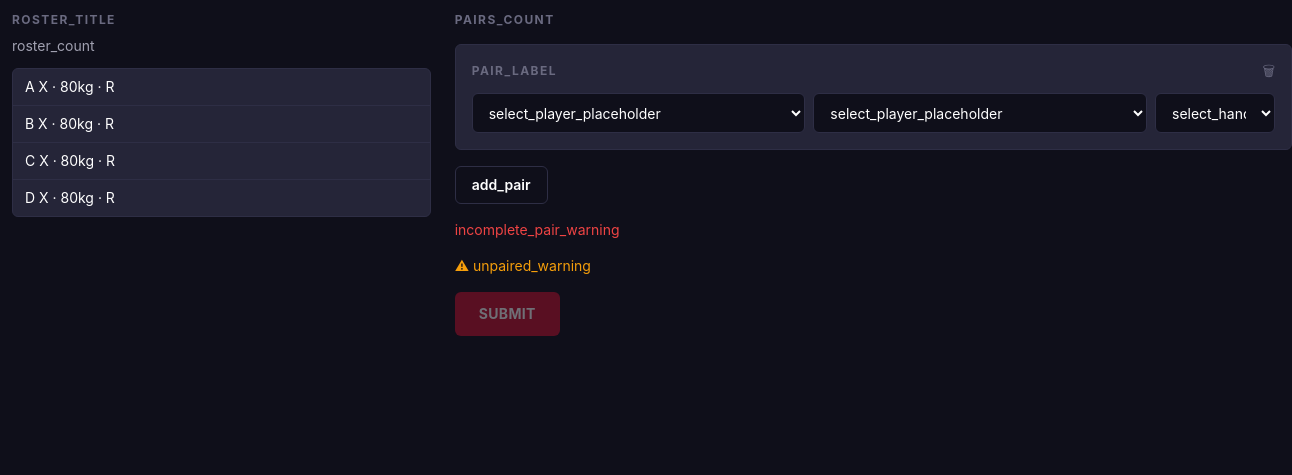
Test: PairBuilder › + Add pair grows the array
Click the button "add_pair" at point(501, 185), box [455,166,548,204]
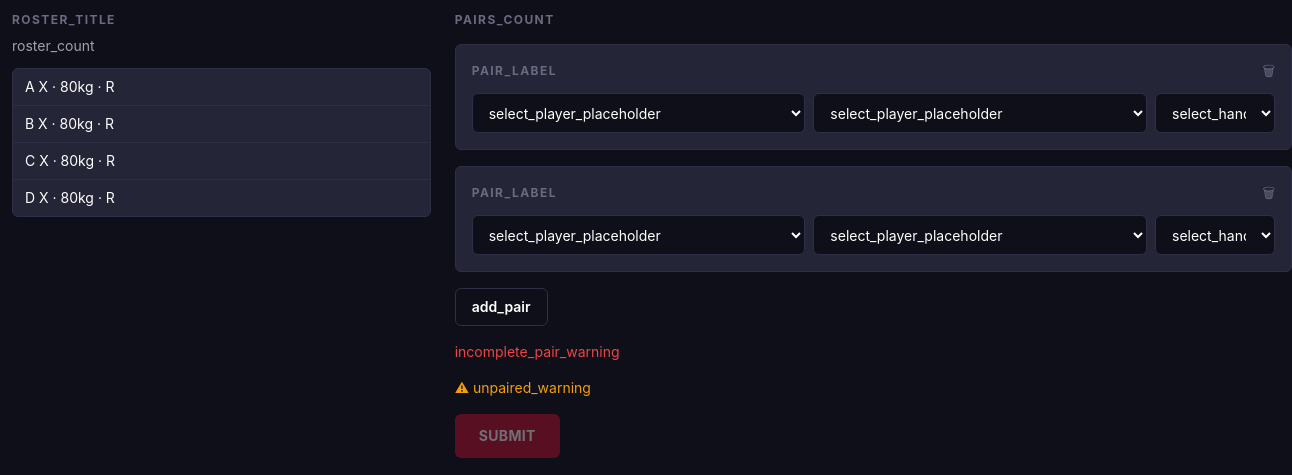
Now the text "pair_label" is shown 2 times, box [472,63,557,79]; [472,185,557,201]
